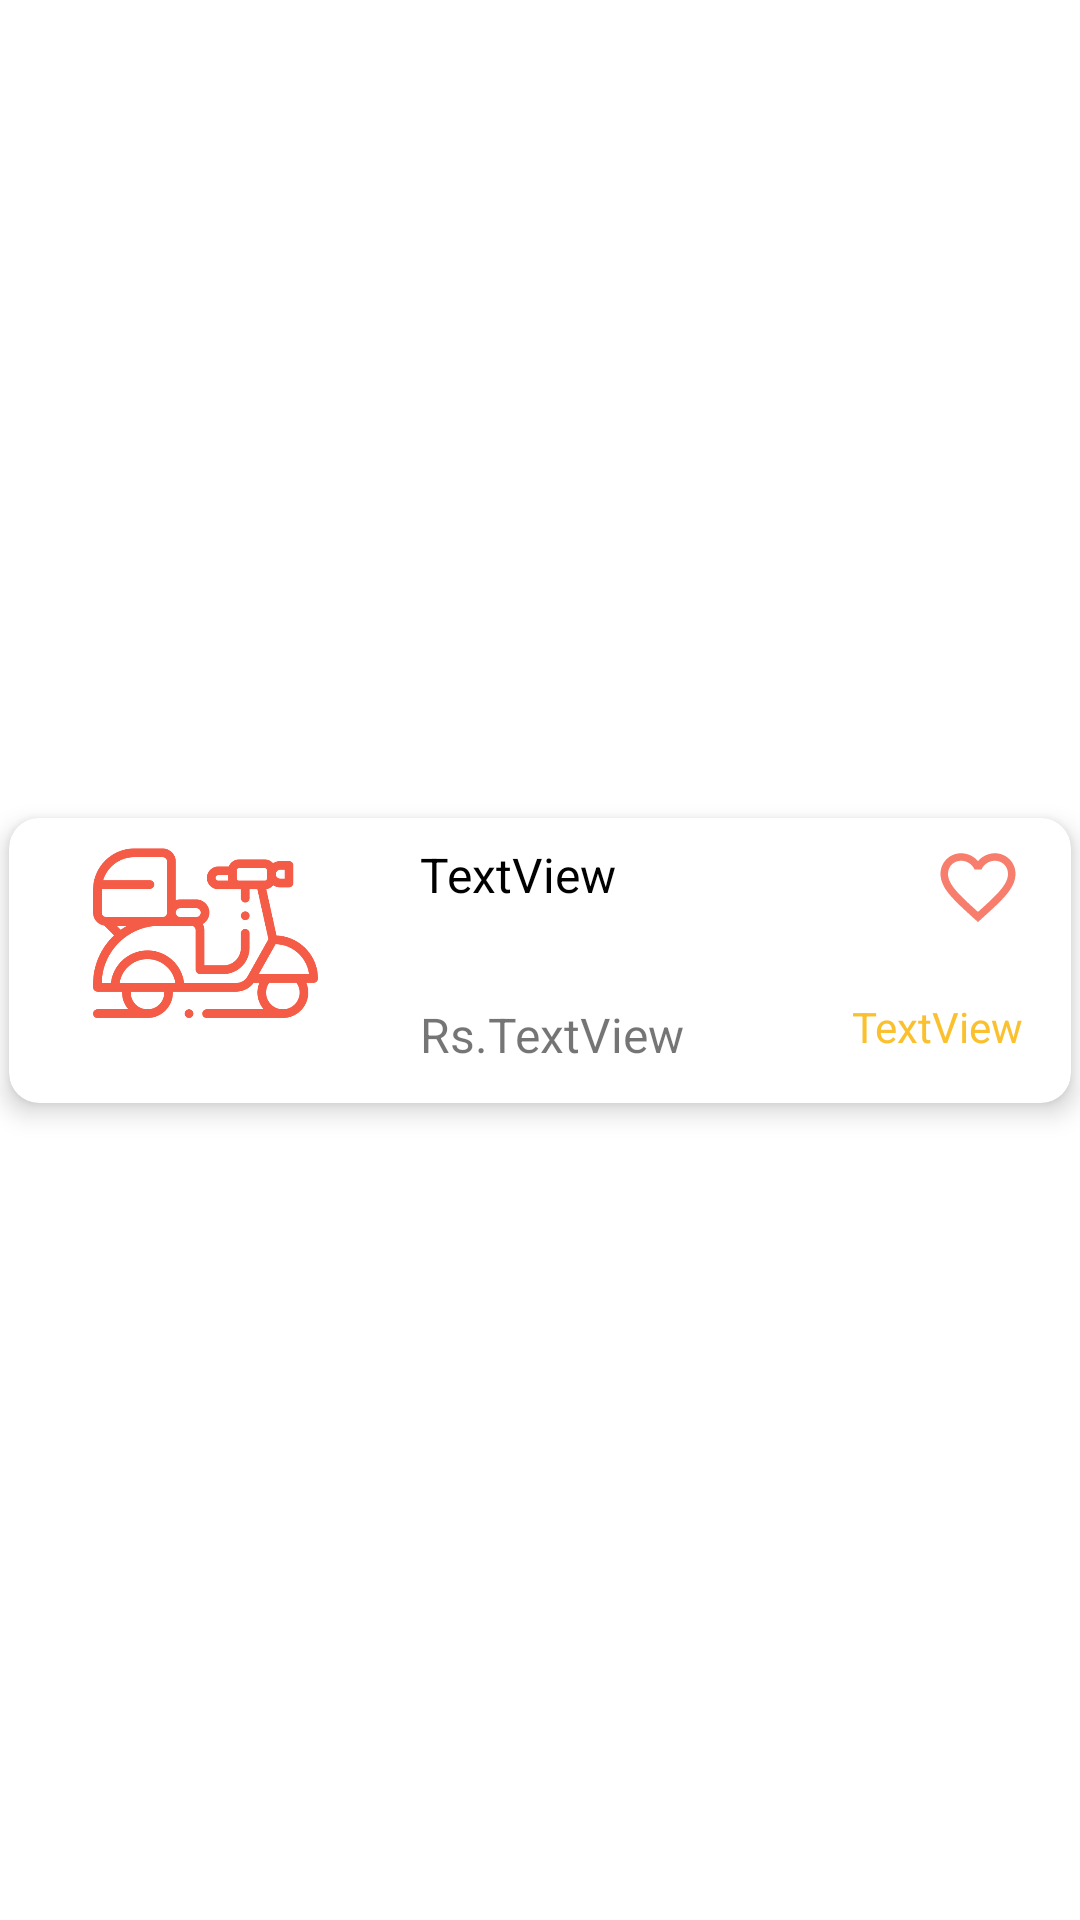

Screen size 1080x1920. Icon name, then its center in pixels as point (x, y):
fav: point (978, 887)
